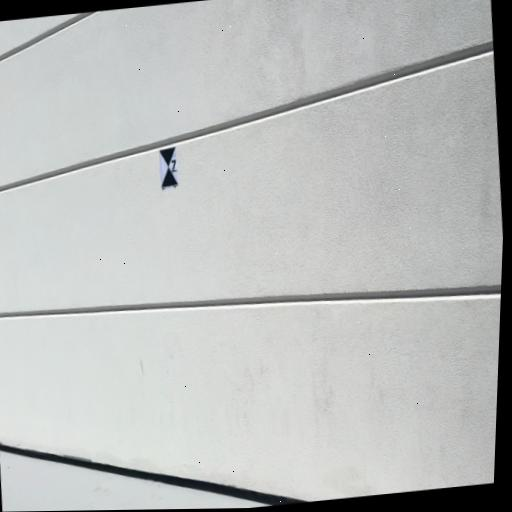target7: (159, 145, 179, 188)
